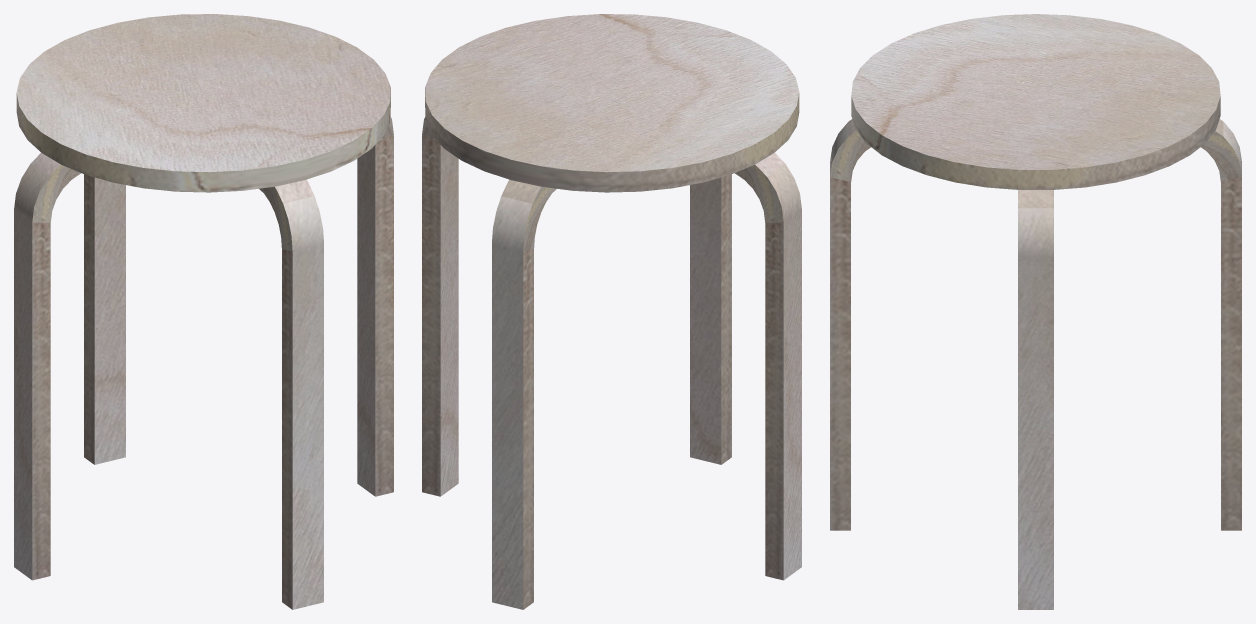
3 views of the same model, side by side, from view 1: azimuth 30°, elevation 25°; view 2: azimuth 150°, elevation 25°; view 3: azimuth 270°, elevation 25° (orthographic).
Parts seen in each view (by area): view 1: Body1; view 2: Body1; view 3: Body1.
Boxes of the visible parts, box(x1,y1,x2,y2) form: Body1: box(14, 14, 393, 609); Body1: box(422, 14, 801, 609); Body1: box(830, 14, 1241, 609).
Bounding box in the file's own units: 39 × 45 × 39.
1 material, 1 textured.
